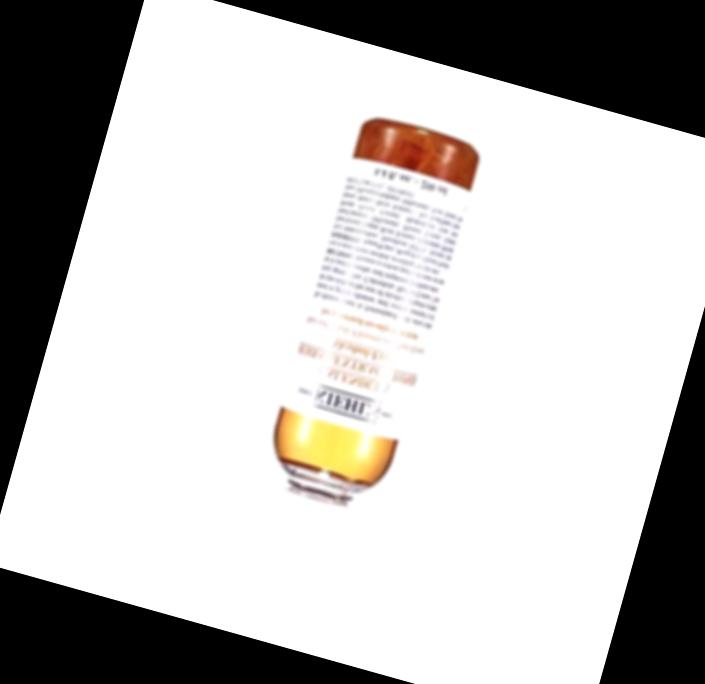cosmetic: (240, 110, 482, 593)
